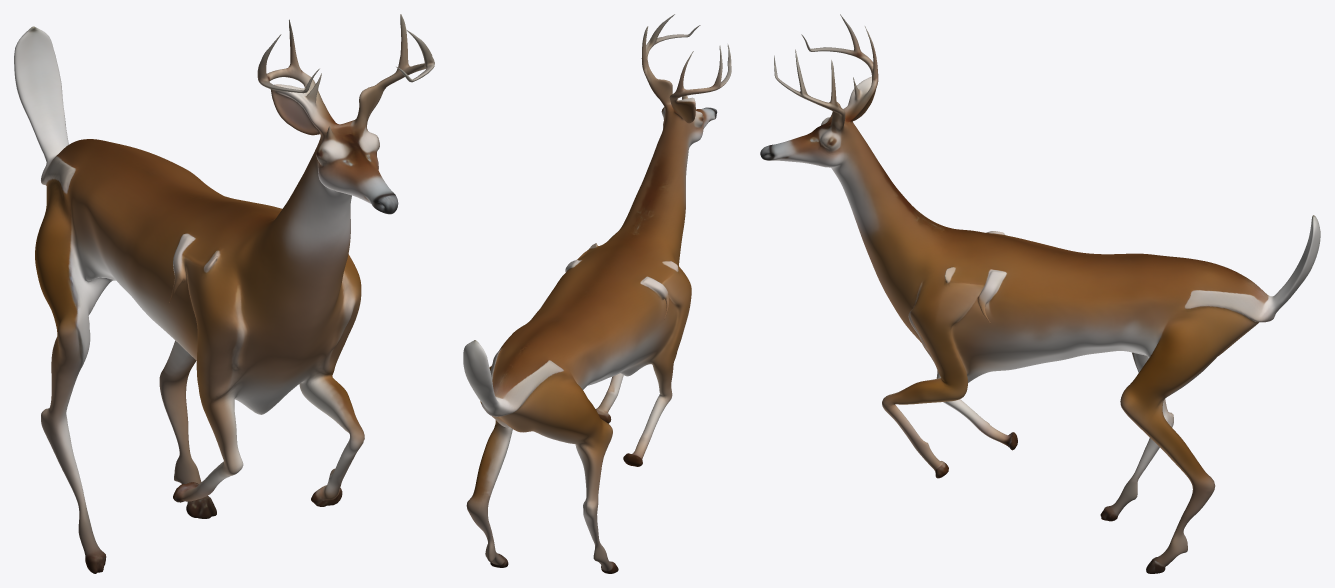
File: deer-original.glb
3 renders of one model, left to right at view 1: azimuth 30°, elevation 25°; view 2: azimuth 150°, elevation 25°; view 3: azimuth 270°, elevation 25°, orthographic. The views are drawn at different scales.
Parts seen in each view (by area): view 1: model; view 2: model; view 3: model.
Boxes of the visible parts, bbox=[...] form: model: bbox=[14, 14, 434, 573]; model: bbox=[463, 14, 731, 573]; model: bbox=[760, 14, 1320, 573].
Bounding box in the file's own units: 0.5232 × 1.9 × 1.88.
1 material, 1 textured.
